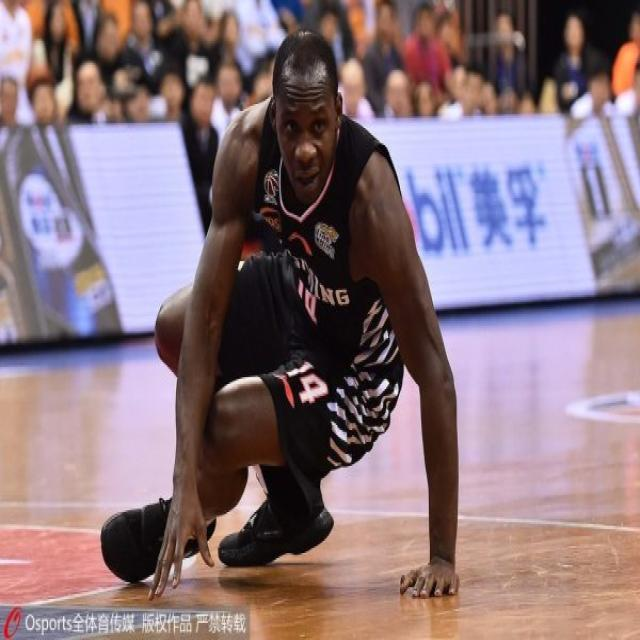10-: (0, 0, 638, 620)
down: (90, 15, 490, 616)
